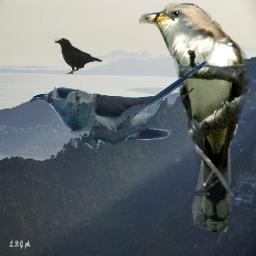Crow: (53, 37, 102, 74)
Cuckoo: (139, 3, 250, 232), (30, 58, 214, 150)
